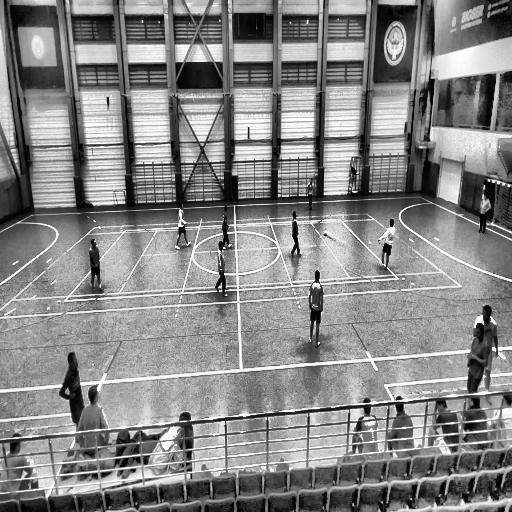ball: (322, 227, 330, 239)
player: (473, 305, 500, 397), (59, 351, 83, 435), (468, 324, 489, 409), (308, 269, 324, 348), (378, 216, 395, 272), (174, 201, 192, 250), (215, 238, 229, 298), (89, 238, 103, 292), (220, 204, 233, 253), (289, 210, 302, 258), (478, 190, 491, 234), (306, 178, 314, 210)
